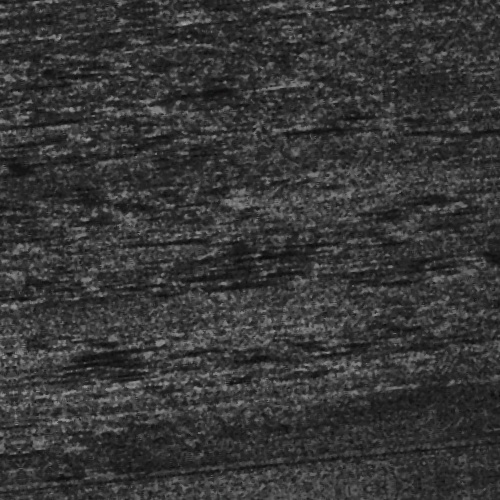object: (100, 96, 183, 105), (241, 81, 334, 88), (256, 278, 309, 285), (343, 133, 396, 138)
shadow: (37, 96, 141, 105), (214, 81, 287, 88), (212, 278, 282, 285), (287, 133, 369, 138)
